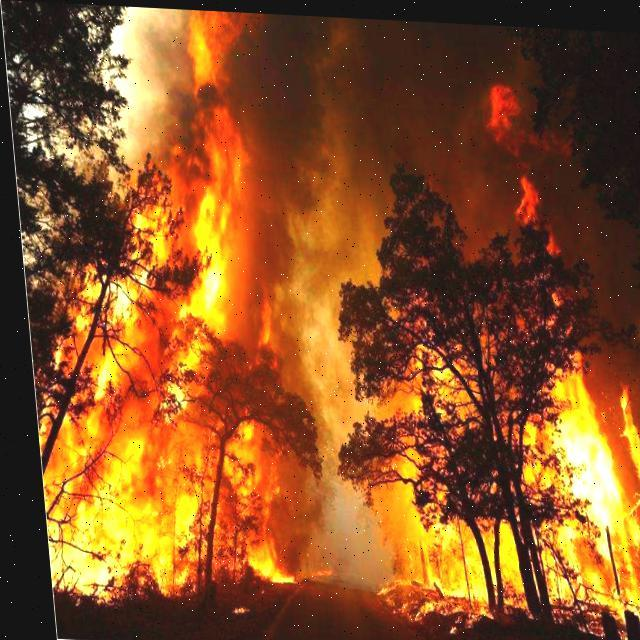Fire: (5, 28, 289, 602), (344, 189, 639, 630)
